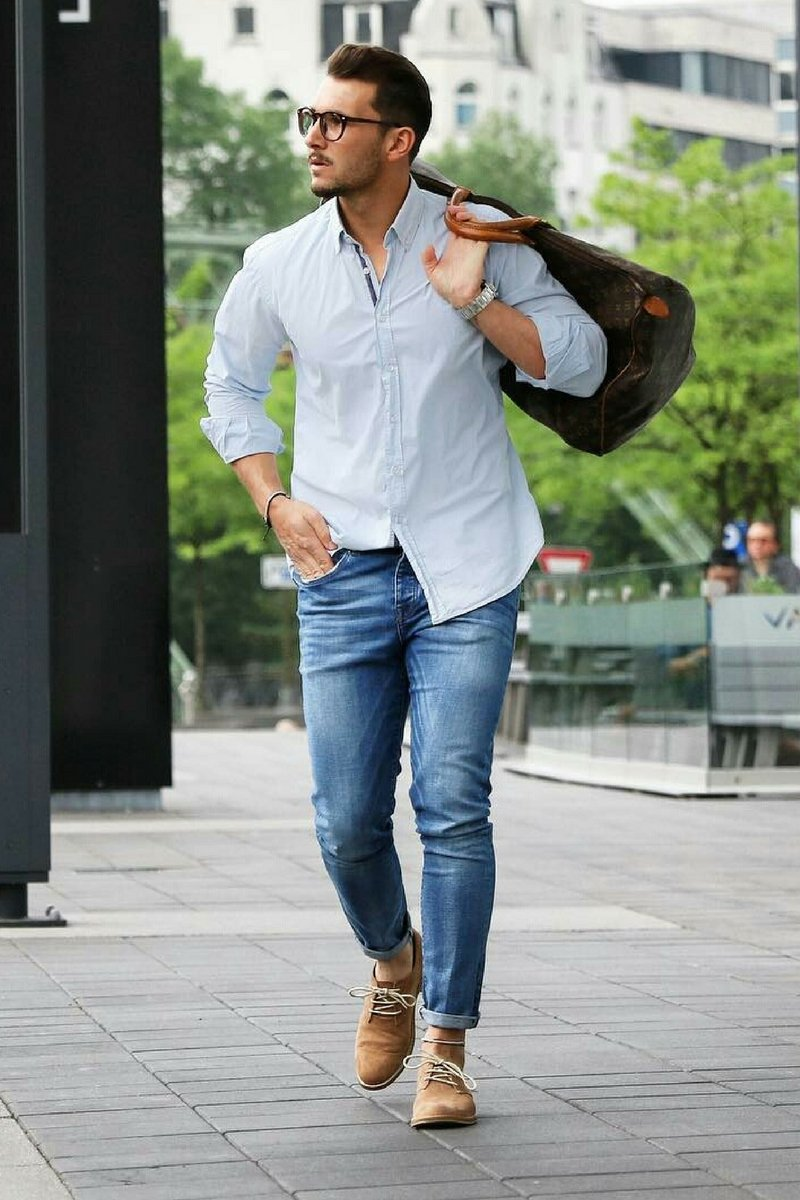NOTSAFE: (260, 38, 514, 606)
